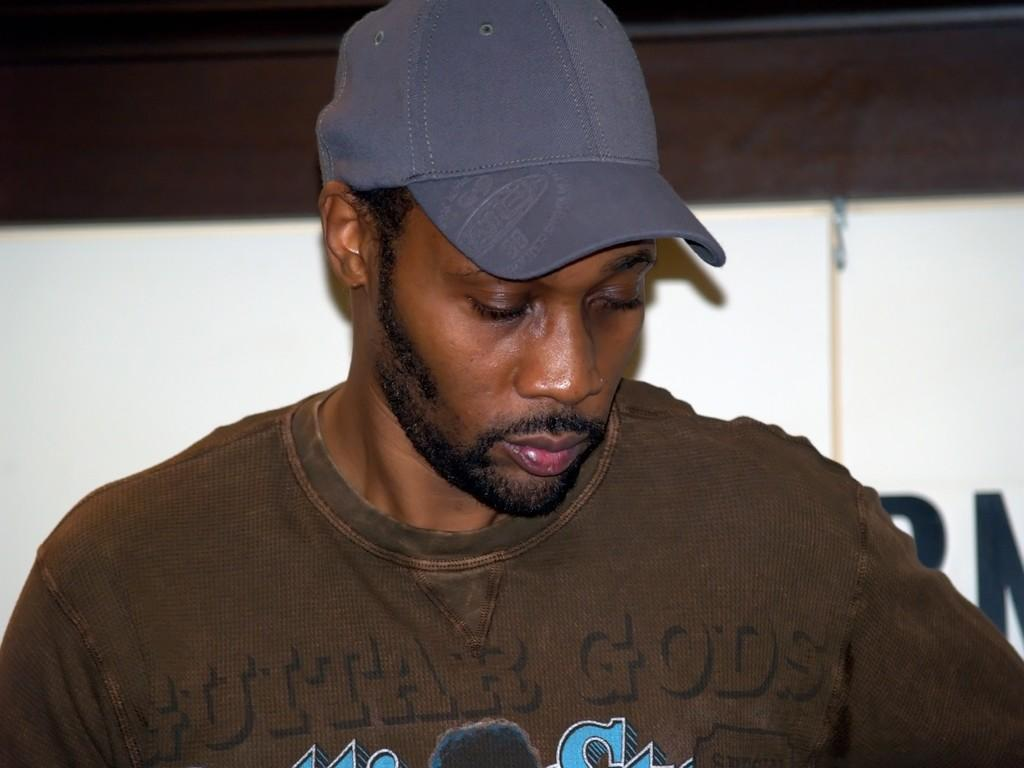Hat: (312, 0, 722, 288)
